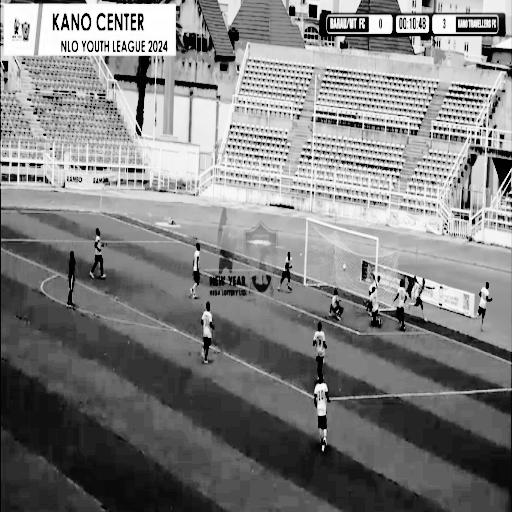ball: (342, 262, 347, 273)
keeper2: (327, 283, 346, 329)
referee: (58, 241, 83, 311)
team1: (312, 370, 336, 468), (409, 276, 433, 326), (190, 235, 206, 300), (278, 249, 295, 296)
team2: (90, 223, 110, 292), (364, 273, 386, 334), (199, 301, 217, 375), (311, 313, 327, 378), (394, 278, 410, 338)
